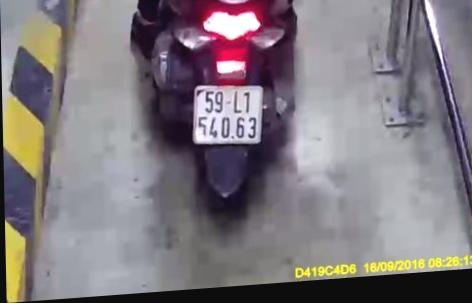License_Plate: (186, 76, 271, 153)
